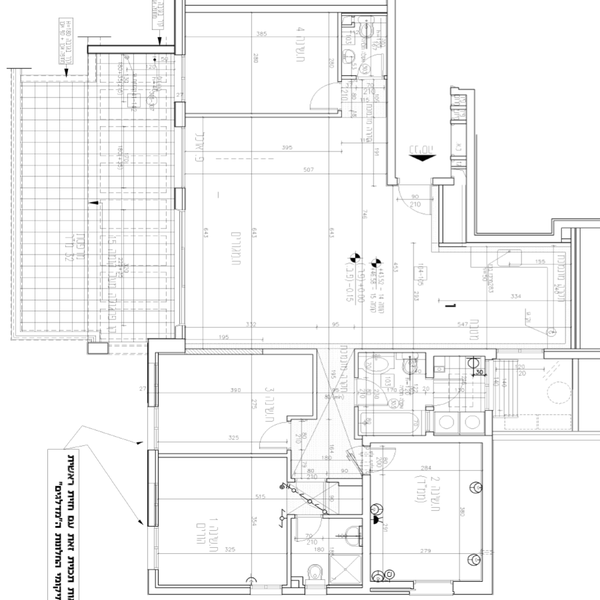door: (254, 416, 297, 452), (355, 377, 395, 414), (423, 374, 464, 408), (367, 445, 399, 478), (295, 511, 322, 550), (311, 81, 343, 112), (357, 50, 385, 80)
room: (144, 334, 320, 460), (362, 437, 498, 600), (142, 456, 297, 593), (175, 4, 347, 117)
wall: (465, 90, 477, 244), (386, 3, 396, 184), (484, 436, 495, 598), (361, 476, 372, 595), (148, 584, 249, 596), (362, 435, 484, 444), (146, 450, 160, 527), (84, 44, 176, 55), (477, 232, 561, 244), (147, 339, 160, 407), (546, 346, 600, 361), (173, 2, 185, 52), (175, 102, 189, 129), (172, 189, 188, 211)
window: (504, 345, 545, 363), (147, 526, 162, 568), (417, 581, 456, 596), (248, 583, 281, 597)
